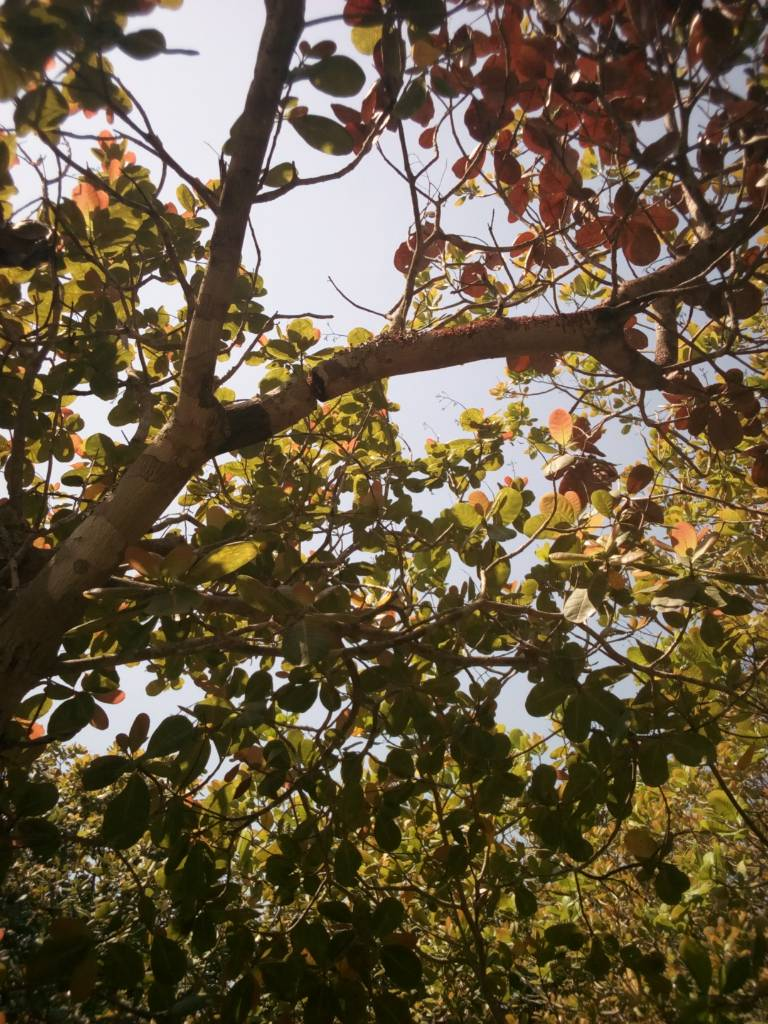Analepse trifasciata: (277, 355, 360, 419)
